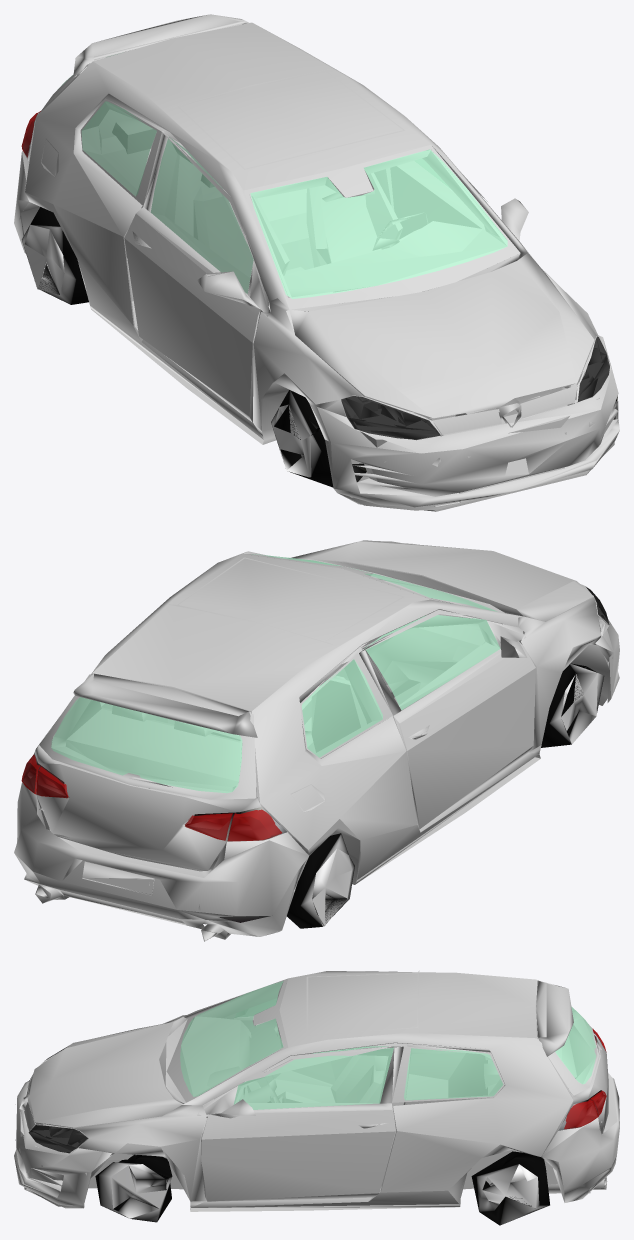
3 renders of one model, top to bottom at view 1: azimuth 30°, elevation 25°; view 2: azimuth 150°, elevation 25°; view 3: azimuth 270°, elevation 25°, orthographic. The views are drawn at different scales.
Visible parts, largest first — view 1: body, glass, wheel_RL, wheel_FL; view 2: body, glass, wheel_RL, wheel_FL; view 3: body, glass, wheel_RR, wheel_FR.
Boxes of the visible parts, x1,y1,x2,y2 form: body: (14,14,619,511); glass: (21,52,609,439); wheel_RL: (22,207,88,304); wheel_FL: (271,390,333,487); body: (14,540,619,941); glass: (21,554,609,841); wheel_RL: (287,833,354,928); wheel_FL: (541,663,604,747); body: (14,970,619,1211); glass: (28,981,606,1153); wheel_RR: (471,1151,549,1225); wheel_FR: (95,1154,172,1222).
Size of the model in its own units: 1.97 by 1.37 by 4.24.
